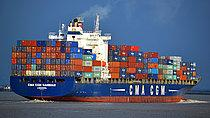Ship: (7, 13, 203, 105)
